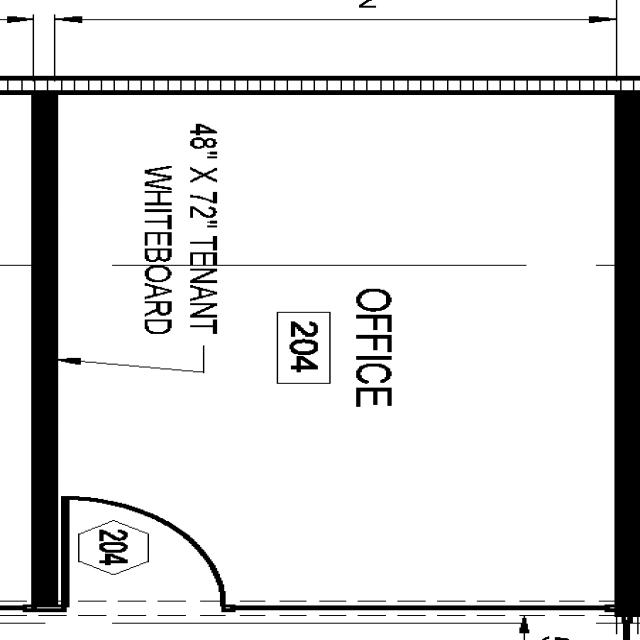Doors: (59, 492, 237, 615)
